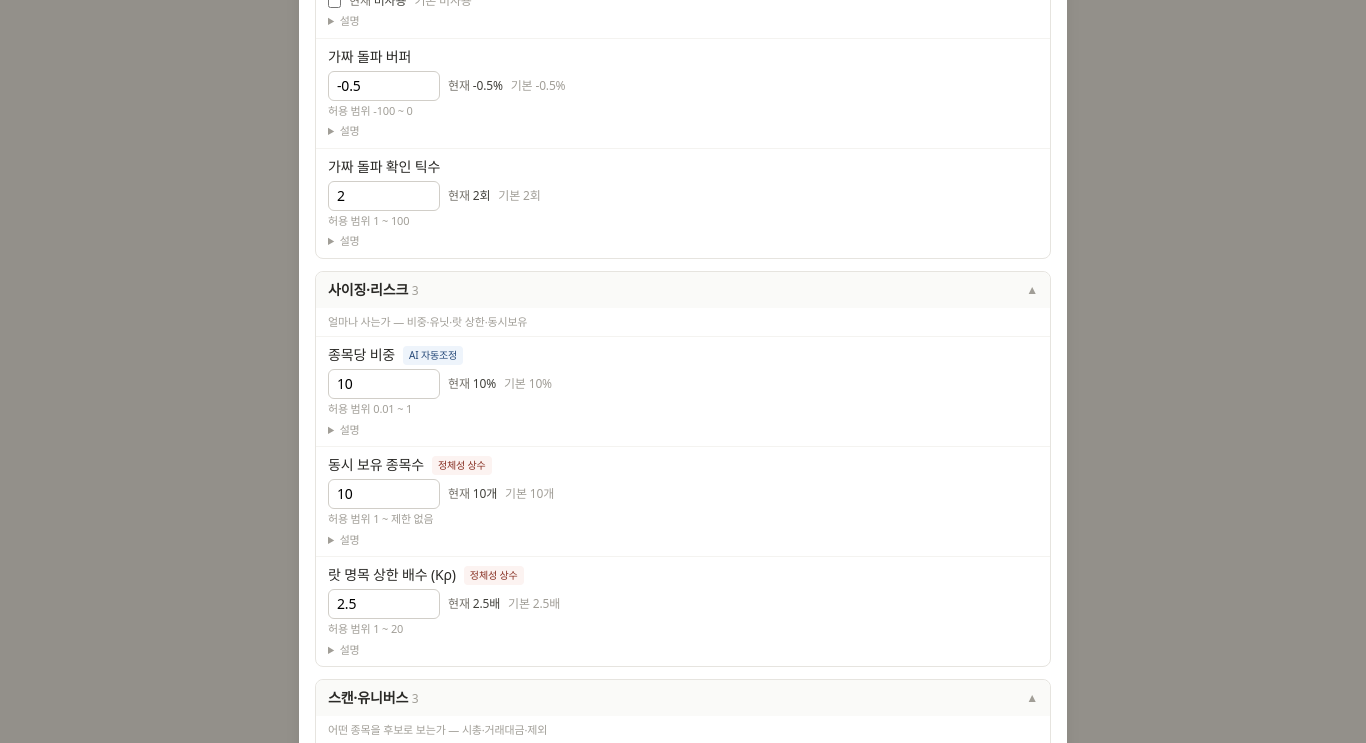
Scenario: cycle278 F16~F20 — 저장·오류·경고 › F17 key 가 null 인 422(불변식)는 폼 레벨에 표시된다
(page scrolled)
Replace the text in the field with test id "strategy-params-input-position-ratio" with "30" at [384, 384], box [328,369,440,399]
(page scrolled)
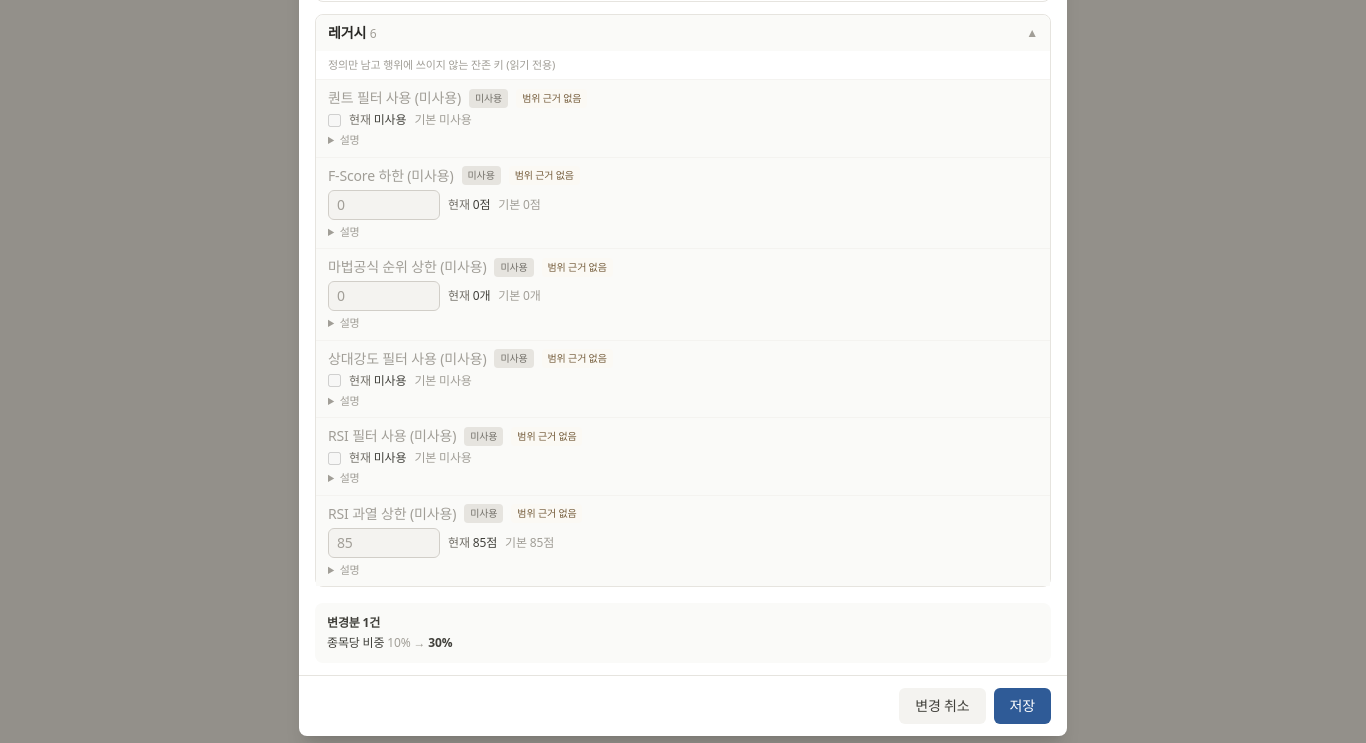
Click the button with test id "strategy-params-save" at [1022, 706], box [994,688,1051,724]
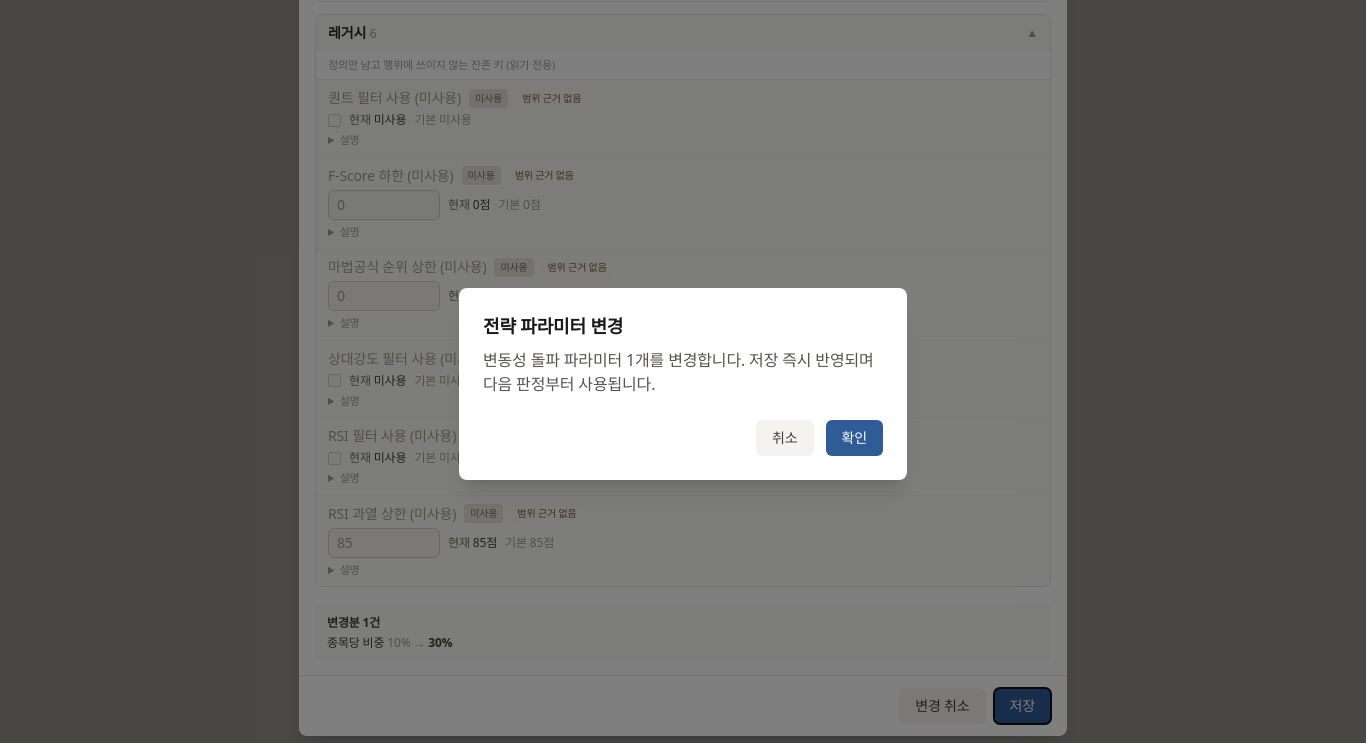
Click the button "확인" at [854, 438], box [826,420,883,456]
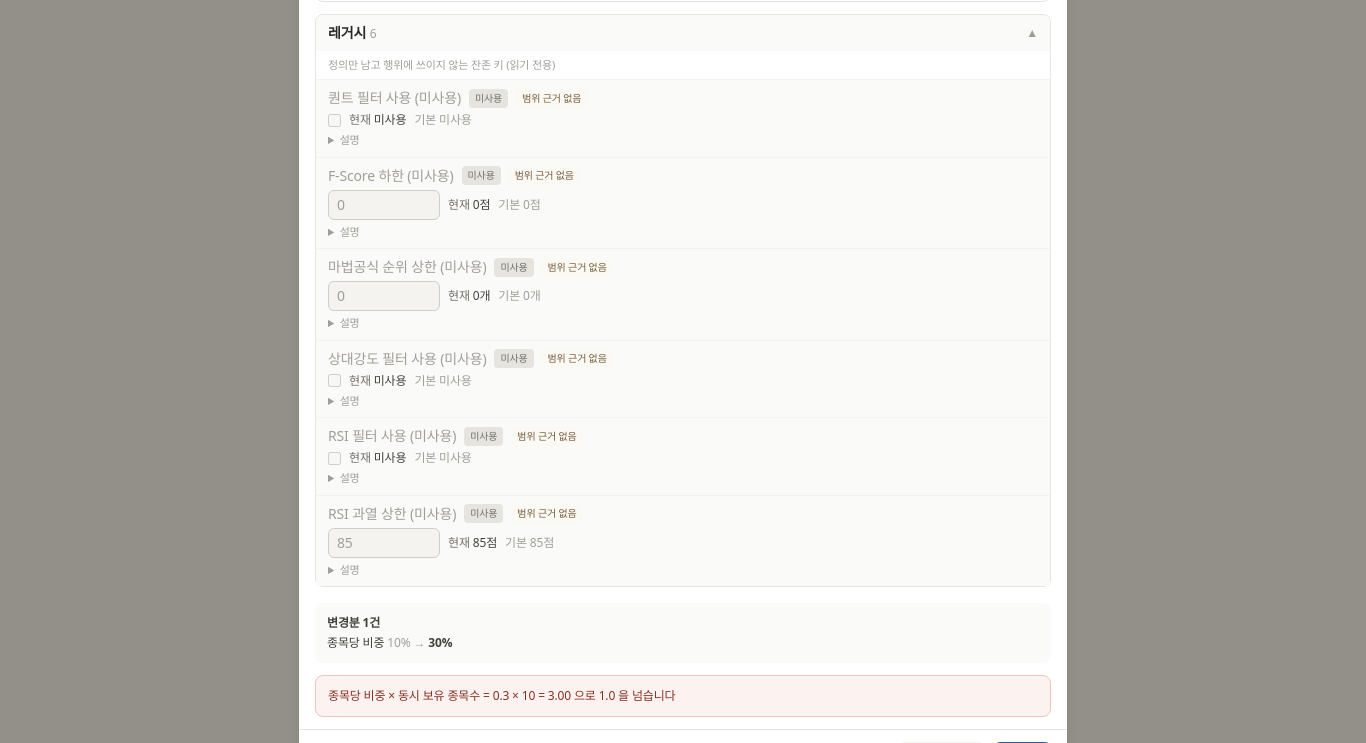
Check: the element with test id "strategy-params-form-error" shows "1.0 을 넘습니다", box [328,687,676,704]
